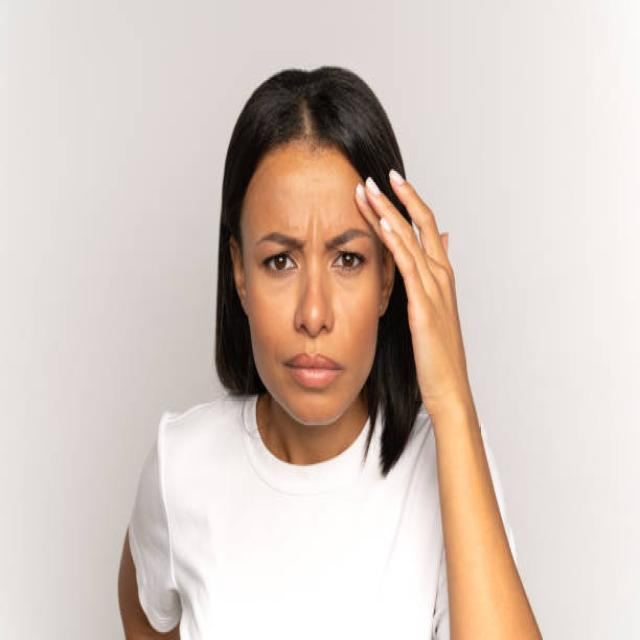Dry-Skin: (261, 165, 360, 243)
